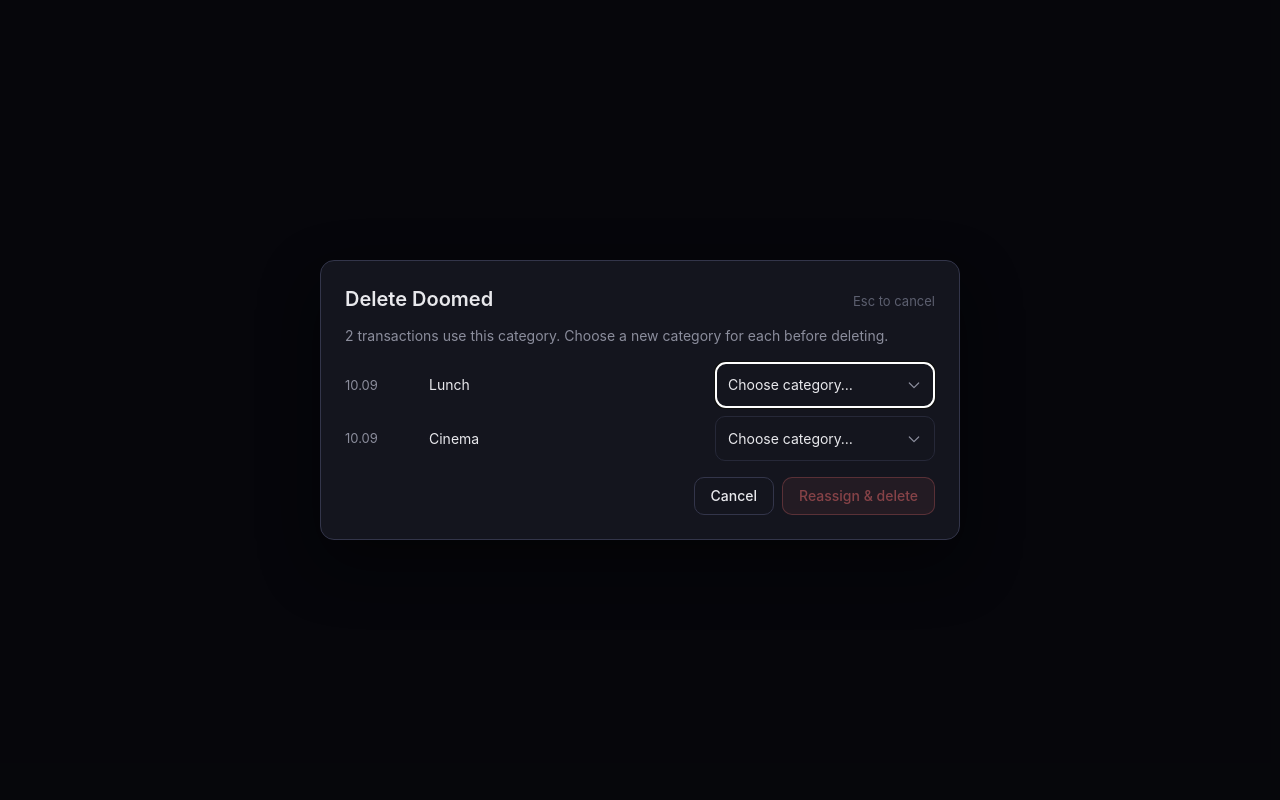
Test: CategoryReassignDialog › the action stays disabled until every row has a category
Expected: the button "Reassign & delete" is disabled, [782,477,935,515]
Click the button "Choose category…" in the row of "Lunch" at [825, 385], box [715,362,935,408]
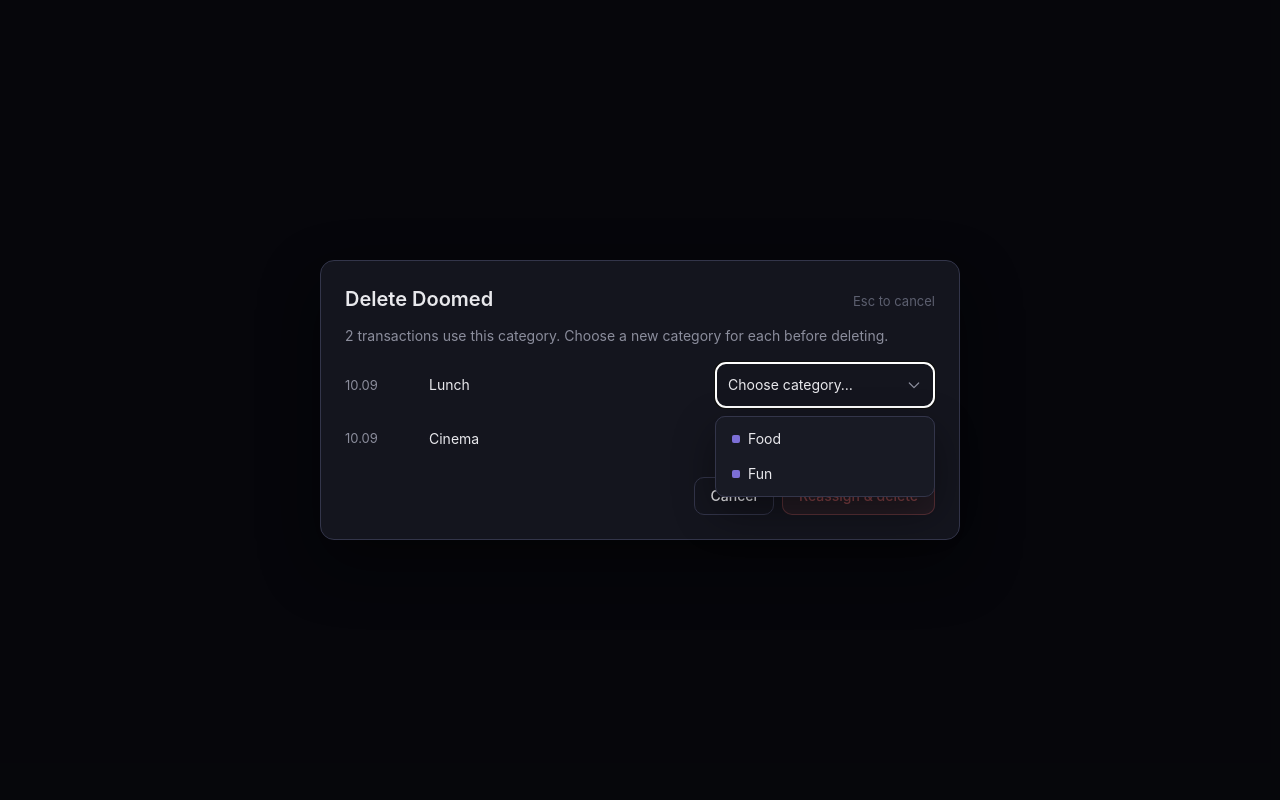
Click the option "Food" at [825, 438], box [720,421,930,456]
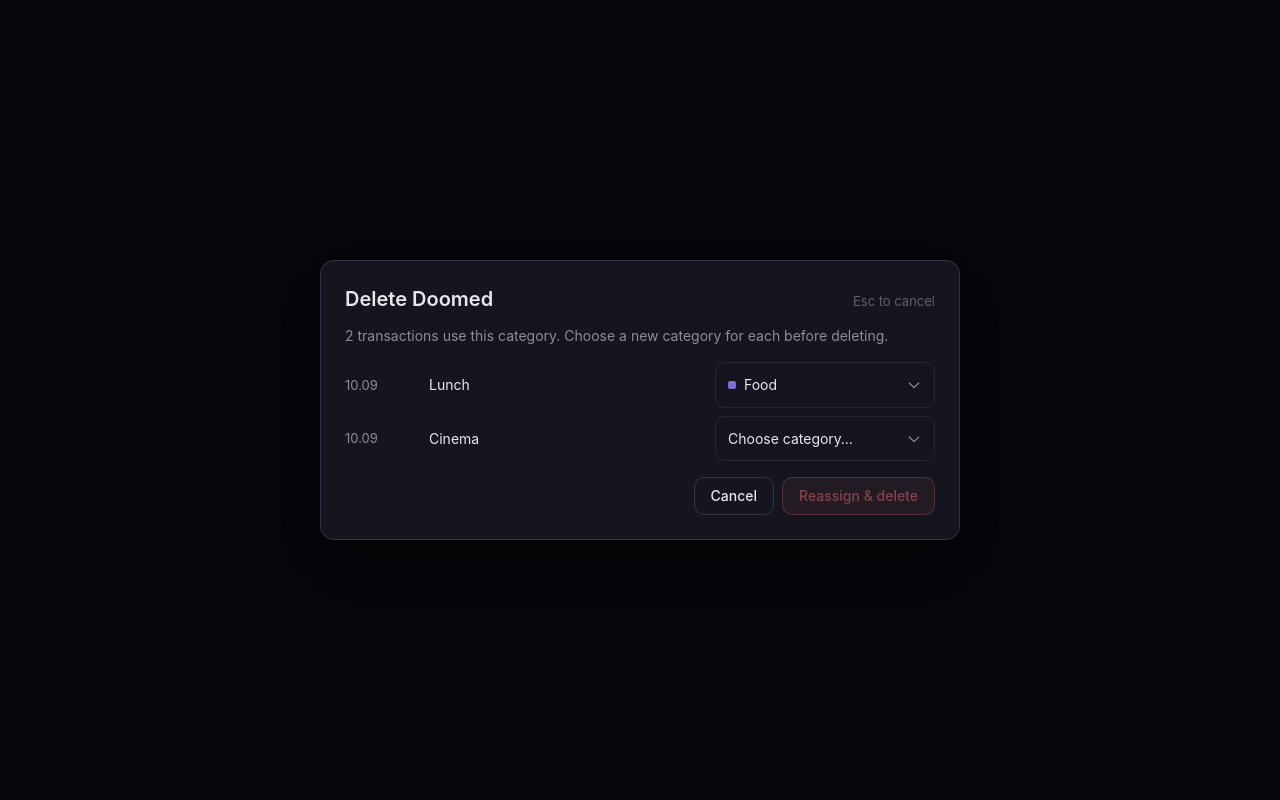
Expected: the button "Reassign & delete" is disabled, [782,477,935,515]
Click the button "Choose category…" at [825, 438], box [715,416,935,461]
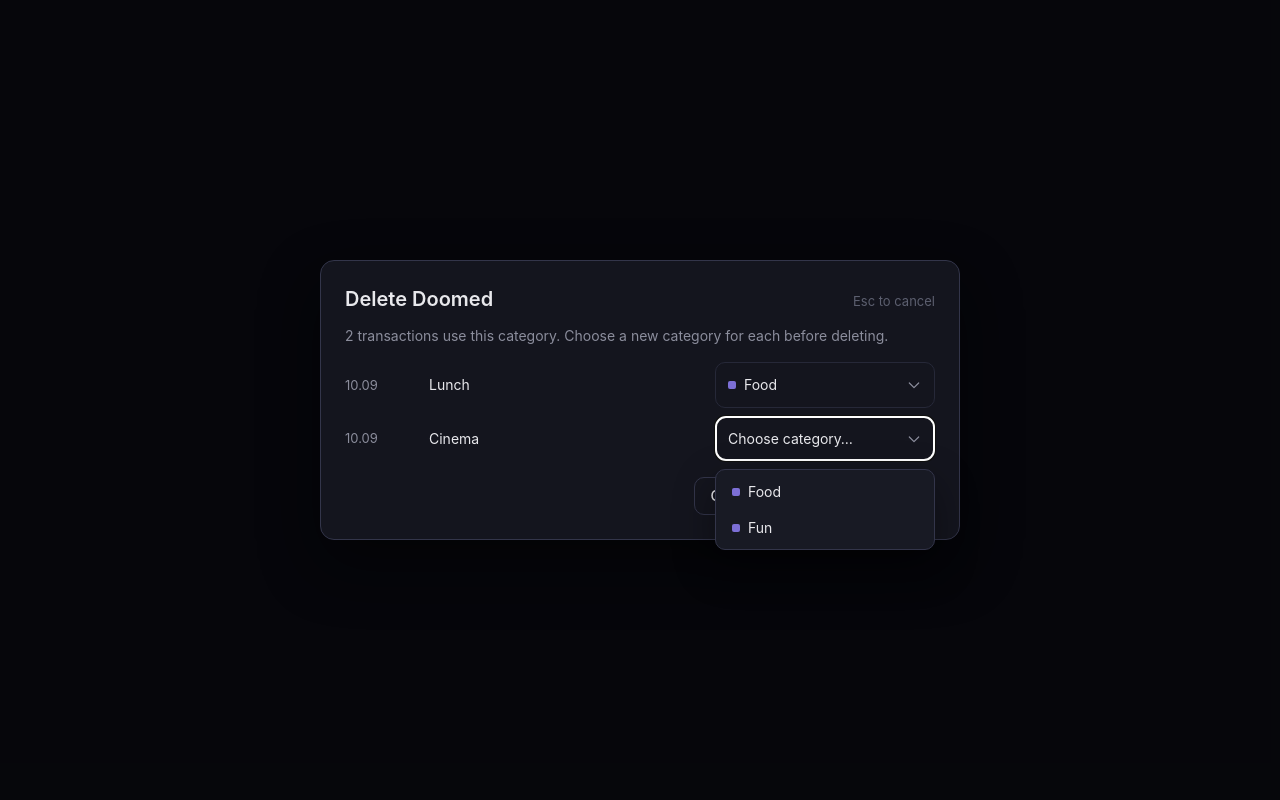
Click the option "Fun" at [825, 528], box [720,510,930,546]
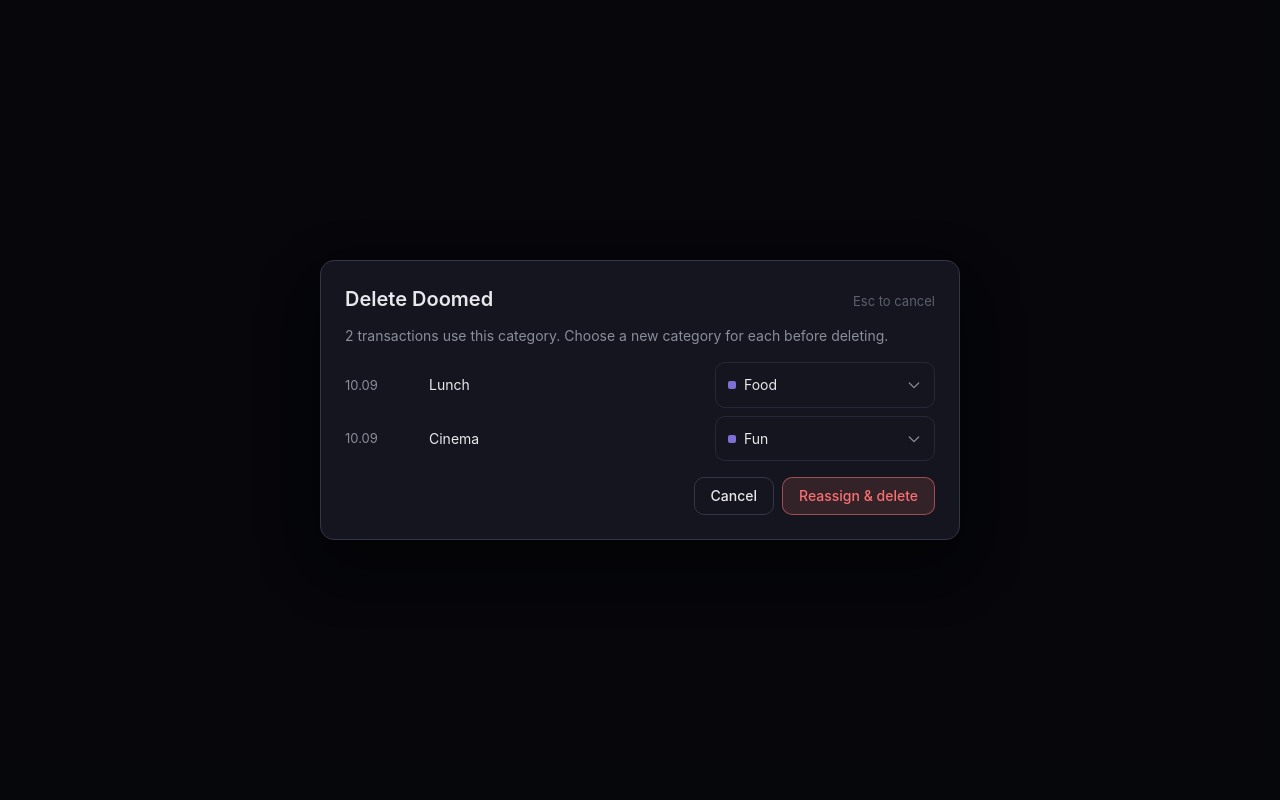
Now the button "Reassign & delete" is enabled, box [782,477,935,515]
